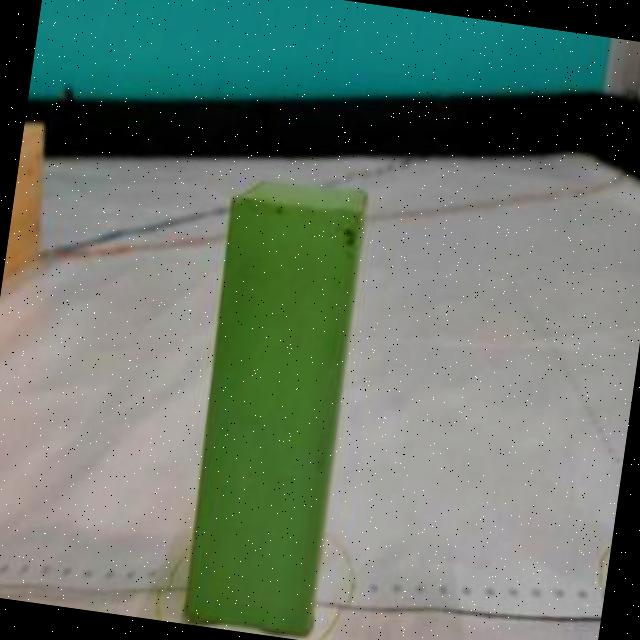greenbox: (170, 169, 373, 640)
